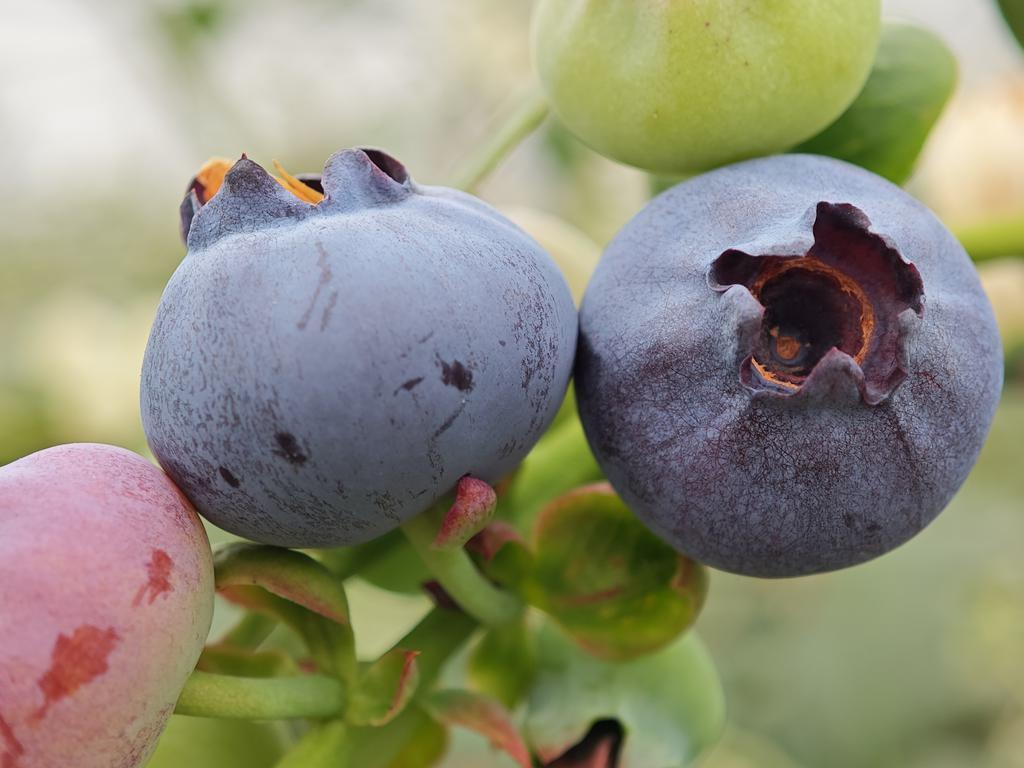RipeBlueBerry: (581, 153, 1005, 581), (139, 146, 578, 545)
